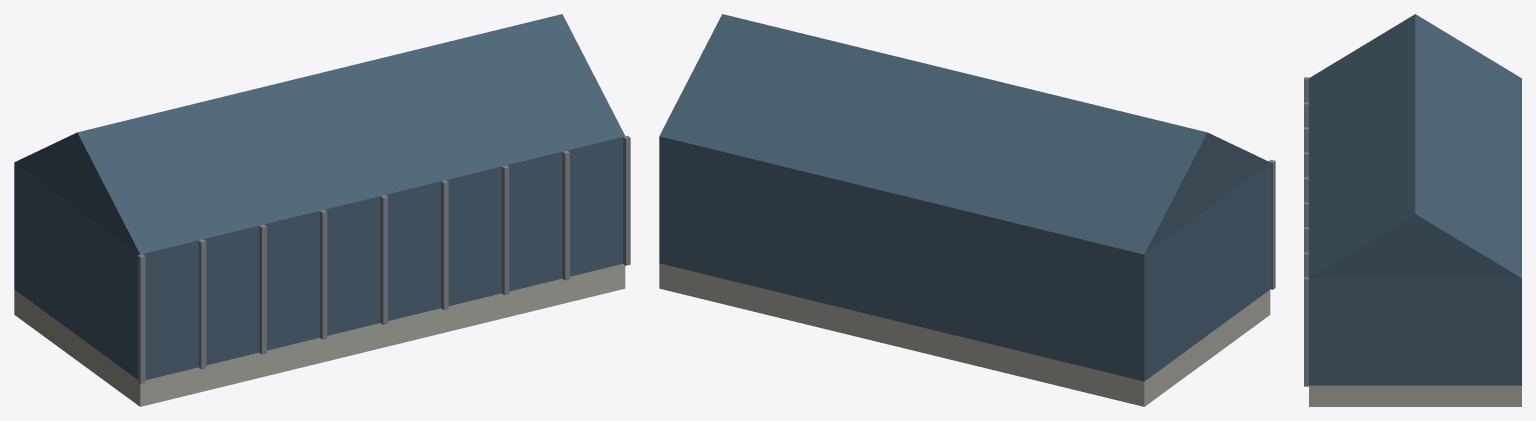
Rendered from greenhouse.glb.
The picture shows the model from 3 angles, left to right: view 1: azimuth 30°, elevation 25°; view 2: azimuth 150°, elevation 25°; view 3: azimuth 270°, elevation 25°; orthographic projection. The views are drawn at different scales.
Visible parts, largest first — view 1: greenhouse_mesh; view 2: greenhouse_mesh; view 3: greenhouse_mesh.
Part boxes in pixels (bbox=[...]): greenhouse_mesh: bbox=[14, 14, 630, 406]; greenhouse_mesh: bbox=[659, 14, 1275, 406]; greenhouse_mesh: bbox=[1304, 14, 1521, 406].
Bounding box in the file's own units: 0.202 × 0.09 × 0.092.
